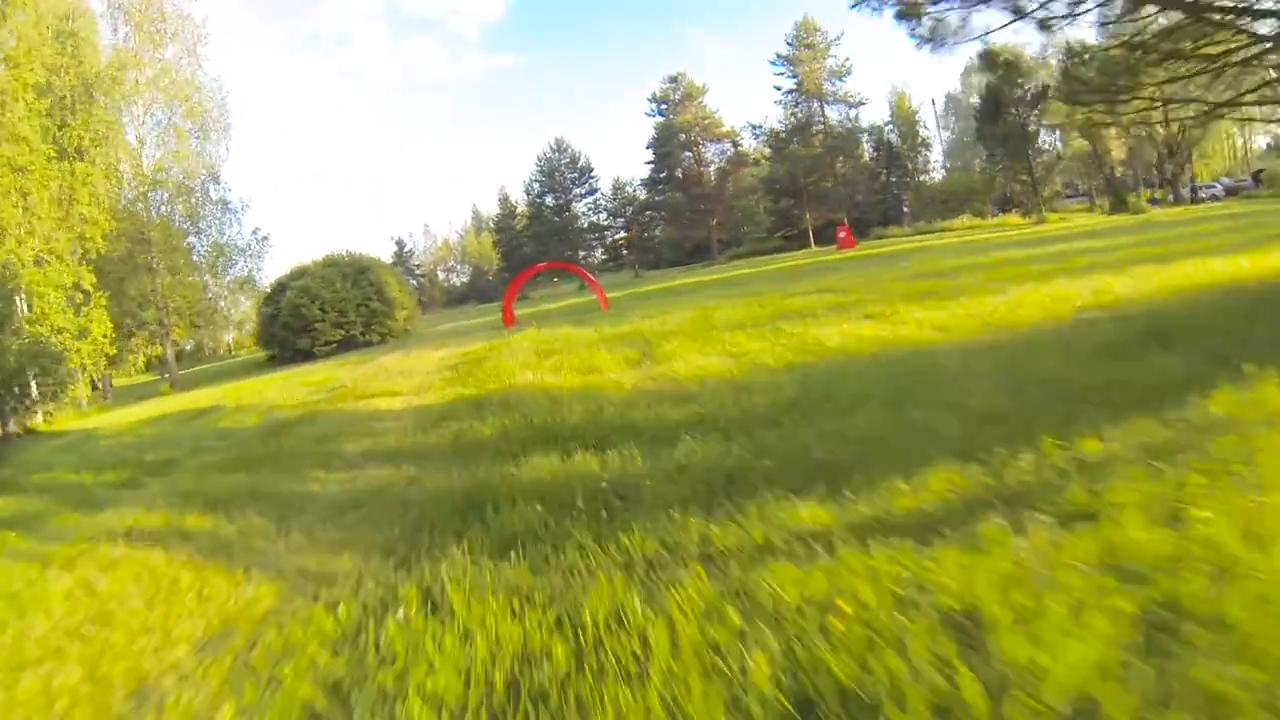gate: (498, 258, 612, 327)
